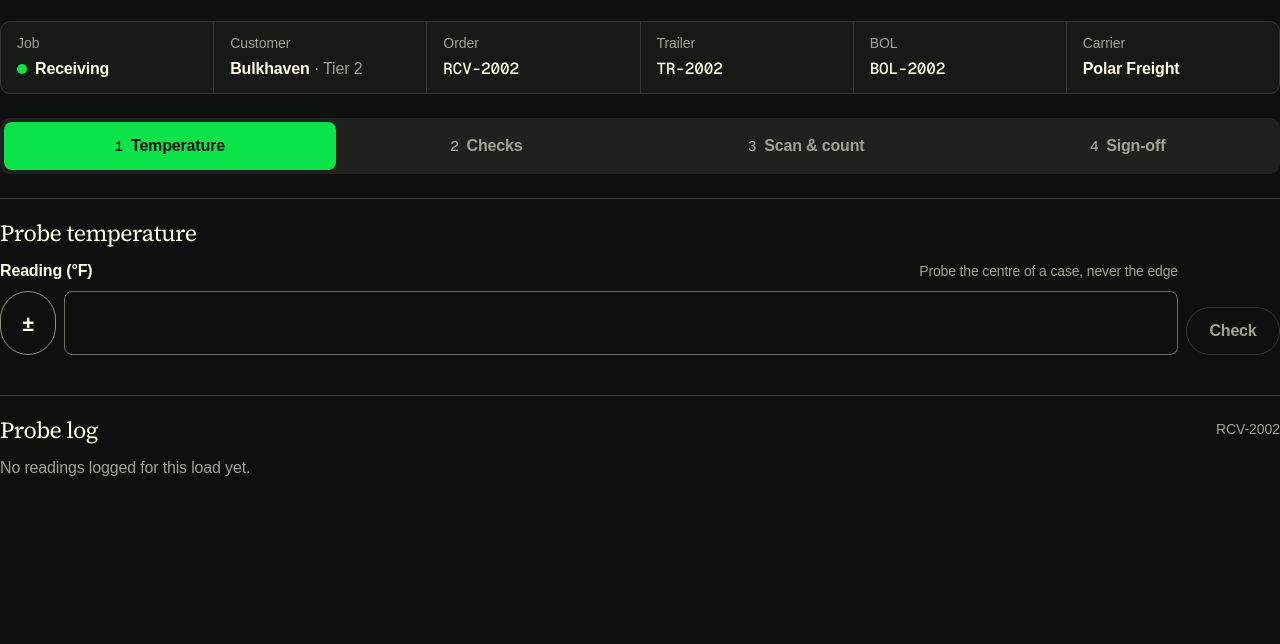
Test: Order work — offline counting › holds sign-off while a count is unsent, and releases it once the count is delivered
The image size is (1280, 644).
Click the tab "3 Scan & count": (806, 146) [637,122,975,170]
(page scrolled)
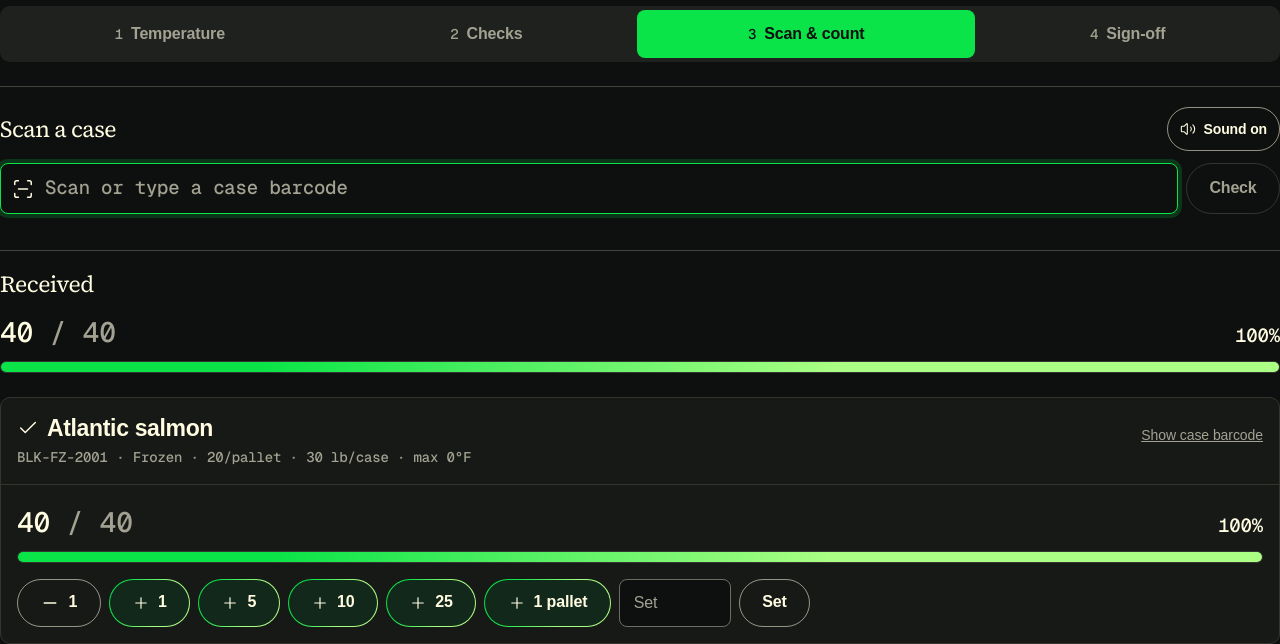
Click the button "5": (239, 602) [198,578,280,626]
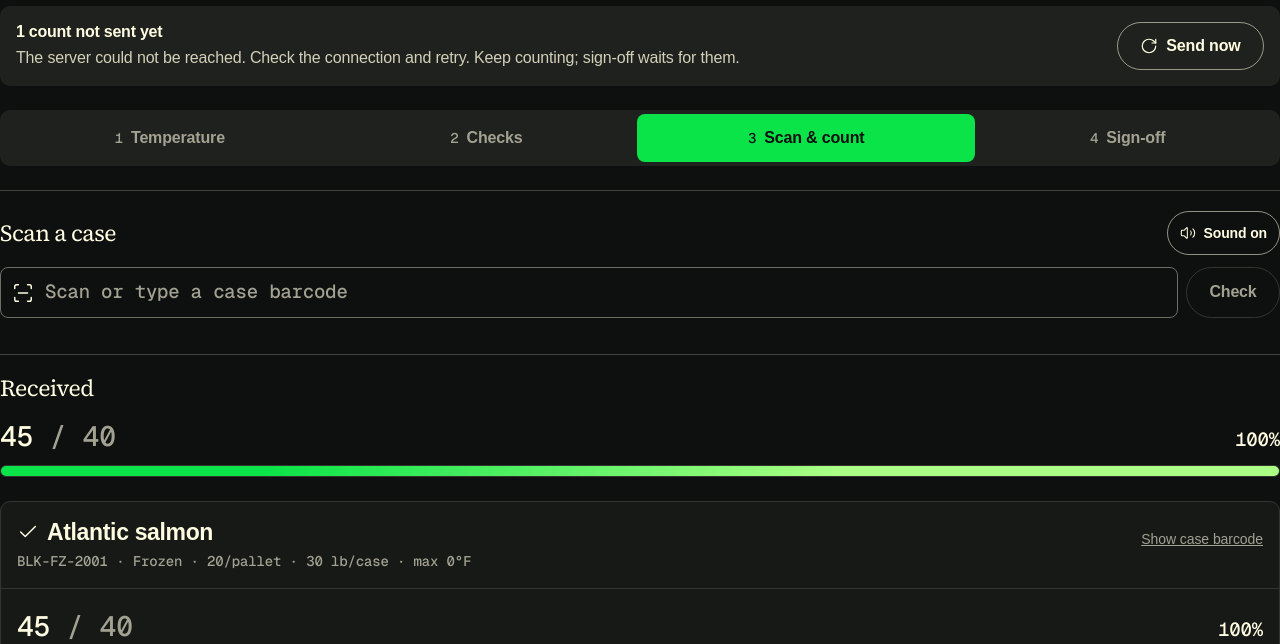
Now the text "1 count not sent yet" is shown, box [16,23,162,40]
Click the tab "4 Sign-off": (1128, 138) [979,114,1276,162]
(page scrolled)
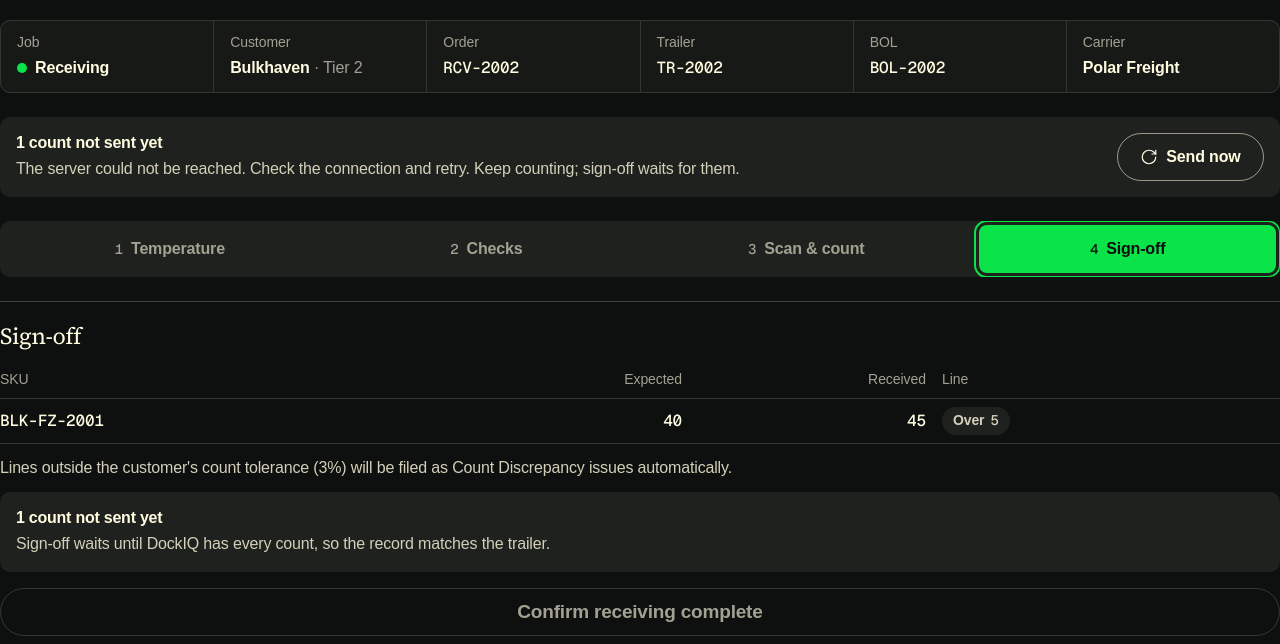
Now the button "Confirm receiving complete" is disabled, box [0,588,1279,636]
Click the button "Send now": (1190, 157) [1117,133,1264,181]
(page scrolled)
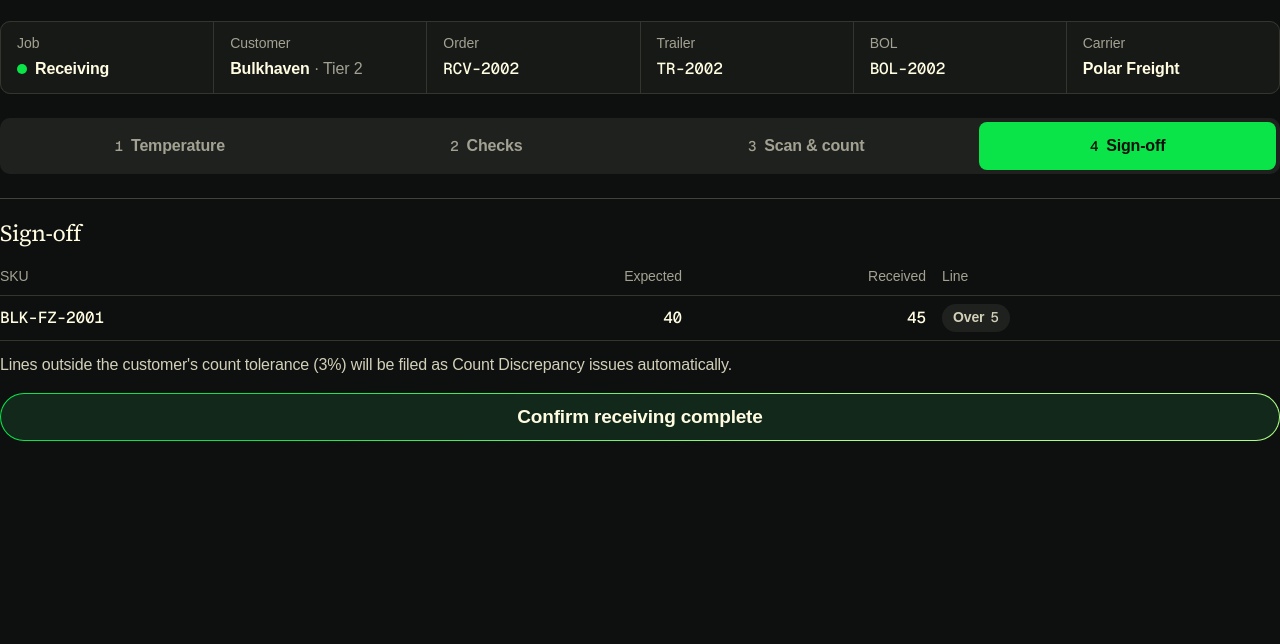
Now the button "Confirm receiving complete" is enabled, box [0,393,1279,441]
Now the text "not sent yet" is gone
